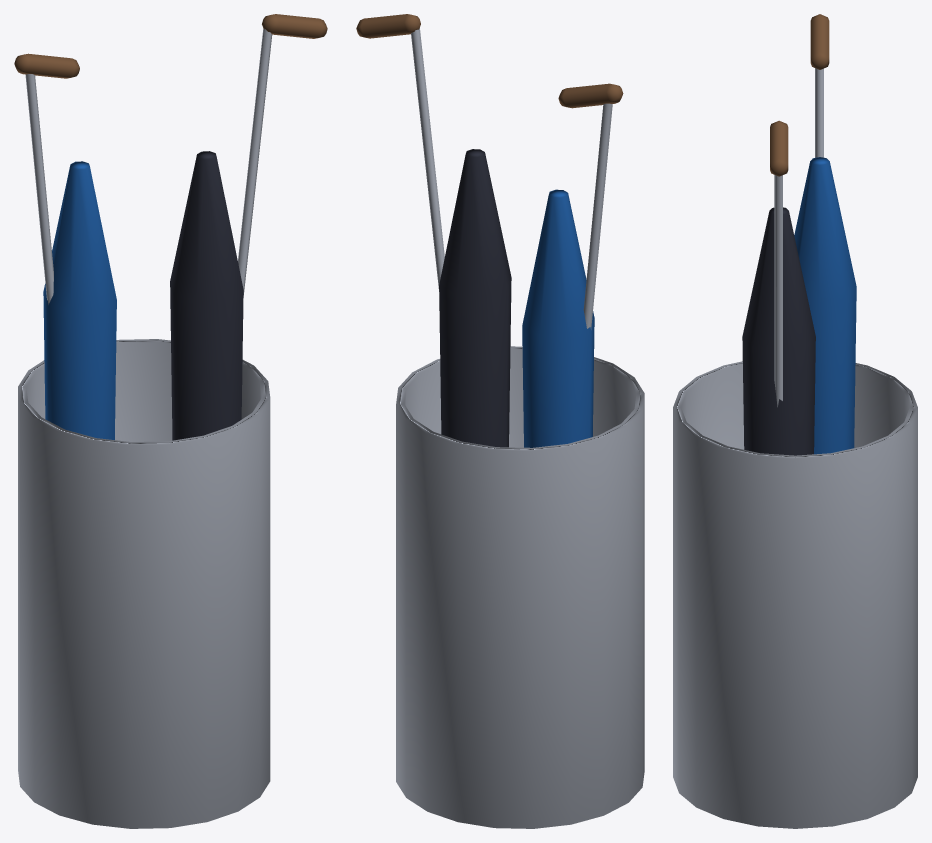
Rendered from ame-020.glb.
3 renders of one model, left to right at view 1: azimuth 30°, elevation 25°; view 2: azimuth 150°, elevation 25°; view 3: azimuth 270°, elevation 25°, orthographic. The views are drawn at different scales.
Visible parts, largest first — view 1: steel, plastic_dark, airline_blue, walnut; view 2: steel, plastic_dark, airline_blue, walnut; view 3: steel, plastic_dark, airline_blue, walnut.
Boxes of the visible parts, bbox=[...] form: steel: bbox=[18, 29, 272, 828]; plastic_dark: bbox=[170, 151, 243, 440]; airline_blue: bbox=[43, 161, 116, 439]; walnut: bbox=[14, 14, 327, 78]; steel: bbox=[396, 28, 644, 828]; plastic_dark: bbox=[439, 149, 511, 447]; airline_blue: bbox=[522, 189, 594, 447]; walnut: bbox=[356, 14, 623, 108]; steel: bbox=[673, 68, 917, 828]; plastic_dark: bbox=[742, 207, 815, 455]; airline_blue: bbox=[794, 157, 856, 454]; walnut: bbox=[770, 14, 829, 176].
Size of the model in its own units: 0.3945 by 0.9627 by 0.3.
